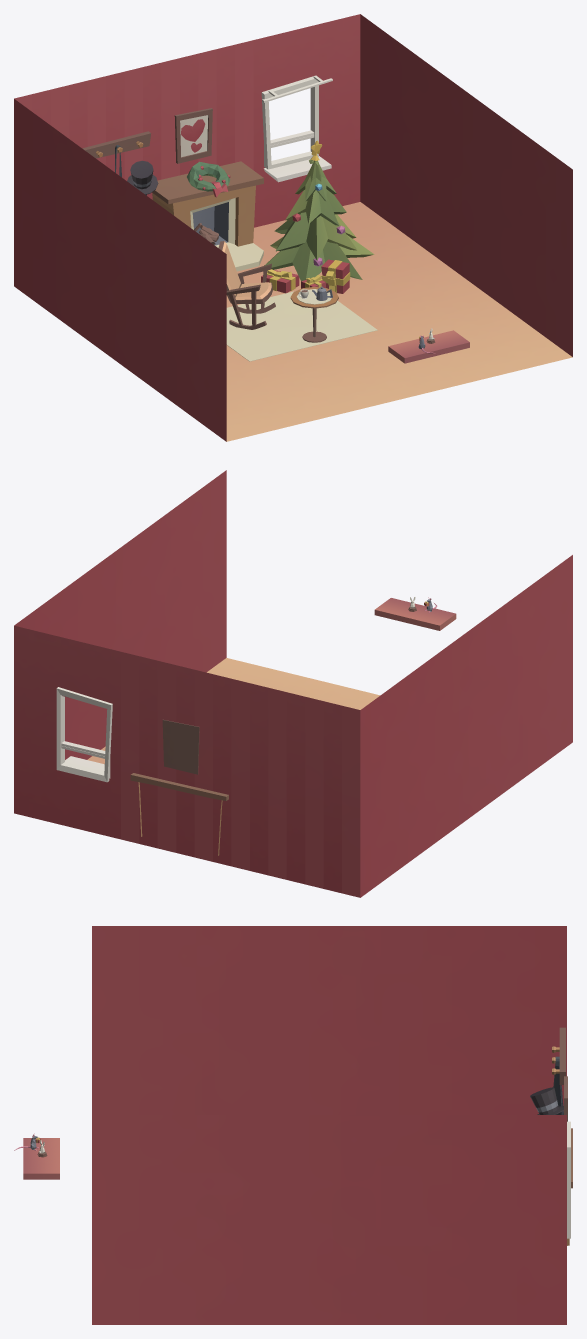
Rendered from wareth.fbx.
3 views of the same model, one above another, from view 1: azimuth 30°, elevation 25°; view 2: azimuth 150°, elevation 25°; view 3: azimuth 270°, elevation 25° (orthographic). The views are drawn at different scales.
Parts seen in each view (by area): view 1: Home.005, Hearth, Cylinder.002, carpet, Window.002, Cheer.001, Shelf, picture, Table.003, Hanger, gift.002, hat (+1 smaller); view 2: Home.005, Window.002, picture, Shelf, Hearth; view 3: Home.005, Shelf, hat, Hanger.
Part boxes in pixels (x1,y1,x2,y2): Home.005: [14, 14, 572, 441]; Hearth: [152, 161, 263, 271]; Cylinder.002: [264, 159, 374, 281]; carpet: [226, 291, 377, 361]; Window.002: [261, 75, 332, 182]; Cheer.001: [218, 241, 275, 329]; Shelf: [388, 330, 469, 363]; picture: [174, 108, 212, 163]; Table.003: [290, 287, 338, 342]; Hanger: [82, 131, 151, 158]; gift.002: [321, 259, 350, 293]; hat: [127, 160, 158, 194]; Home.005: [14, 470, 572, 897]; Window.002: [56, 687, 112, 782]; picture: [162, 719, 199, 774]; Shelf: [374, 598, 456, 630]; Hearth: [130, 773, 228, 855]; Home.005: [92, 926, 566, 1324]; Shelf: [23, 1138, 59, 1179]; hat: [530, 1087, 563, 1114]; Hanger: [552, 1027, 565, 1084].
Size of the model in its own units: 4.75 by 2.56 by 5.94.
